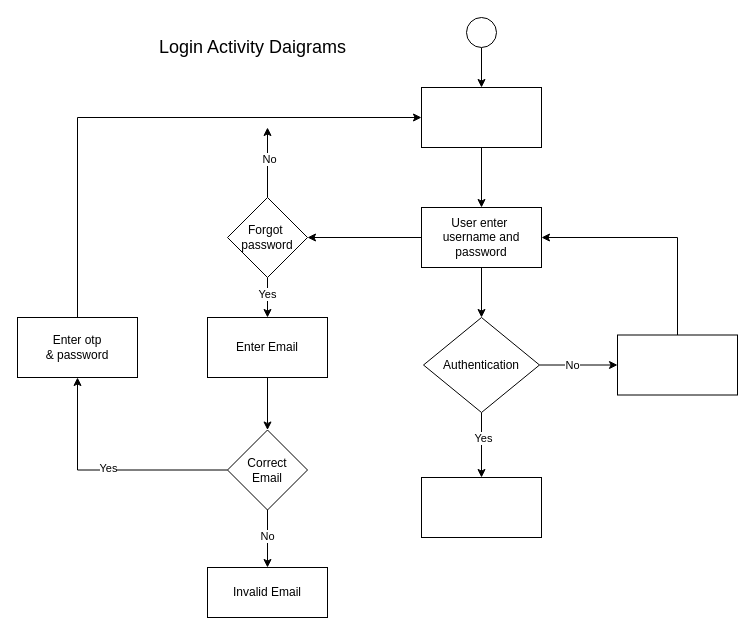
The diagram is 755 pixels wide and 635 high, and some of its shapes have lost their labels. The shapes that lost their labels are listed below. From the top down, each one's centre as x and y in pixels, then its label:
At point (481, 117): "Login".
At point (677, 364): "Invalid username & password".
At point (481, 507): "Dashbord".
